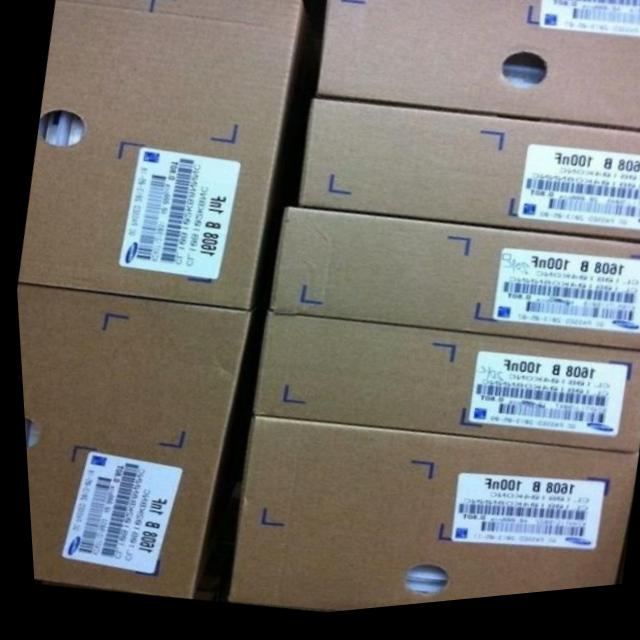box: (16, 0, 320, 316), (219, 421, 633, 617), (14, 281, 262, 605), (247, 316, 640, 464), (265, 213, 640, 363), (296, 103, 640, 253), (314, 0, 640, 144)
